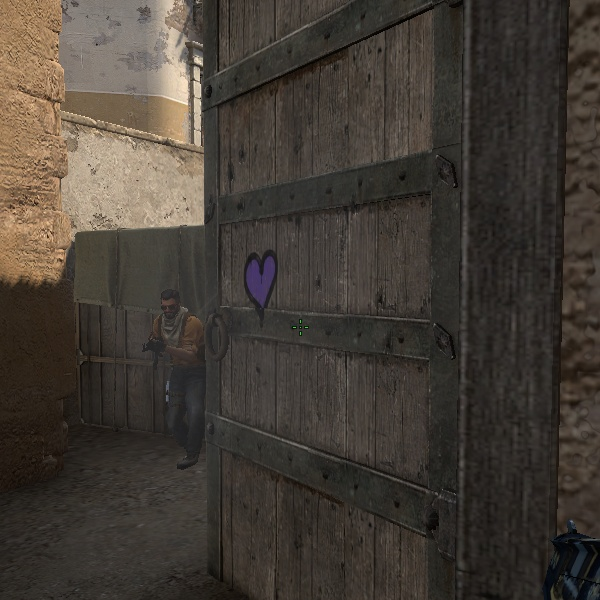t_body: (153, 276, 215, 469)
t_head: (154, 285, 191, 322)
